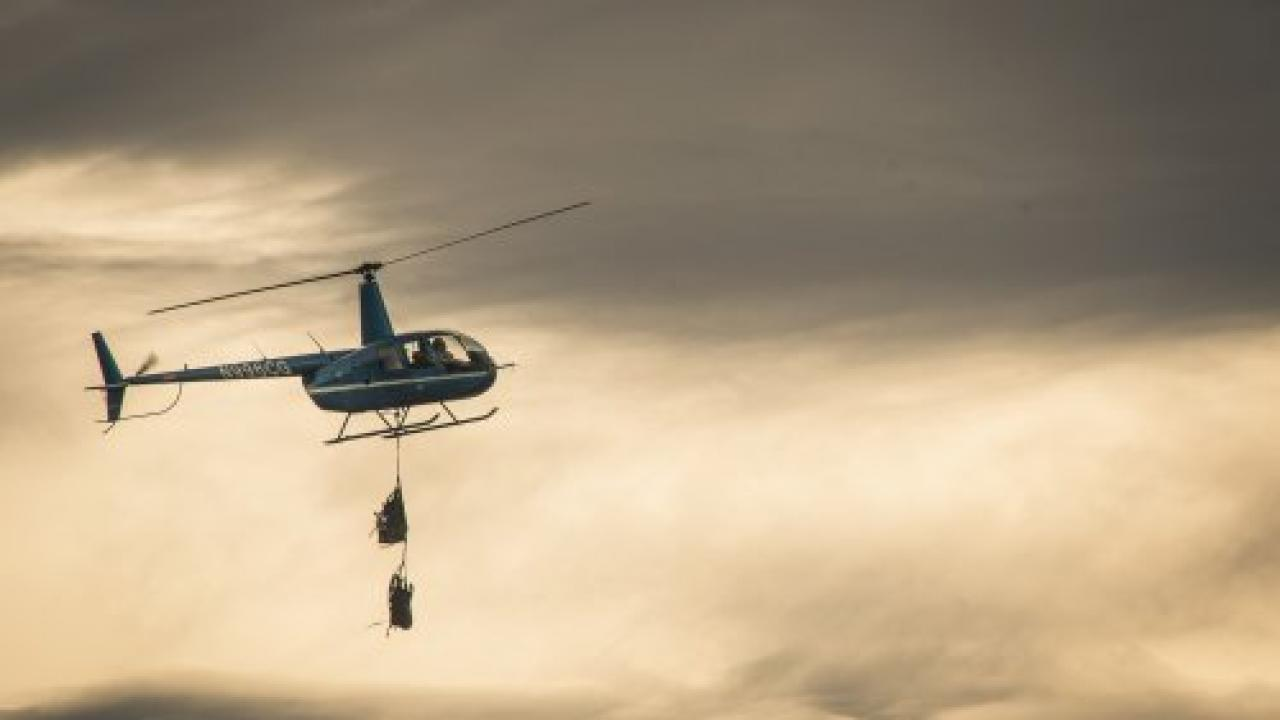Helicopter: (74, 186, 606, 454)
